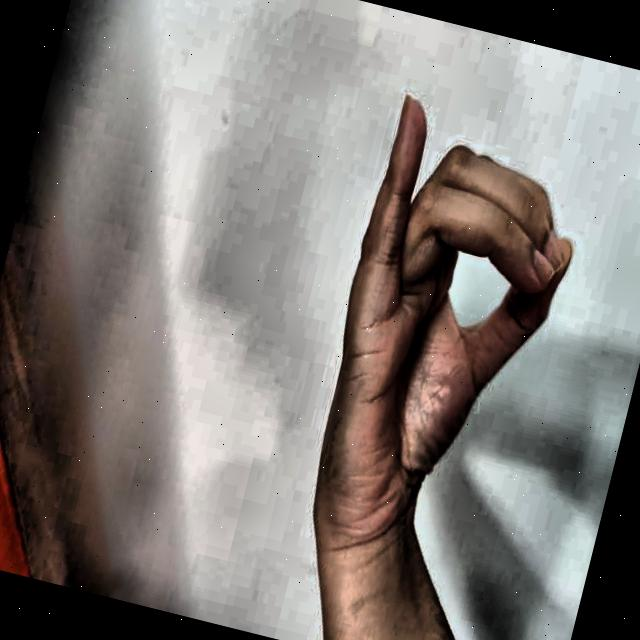Ou: (266, 57, 624, 599)
